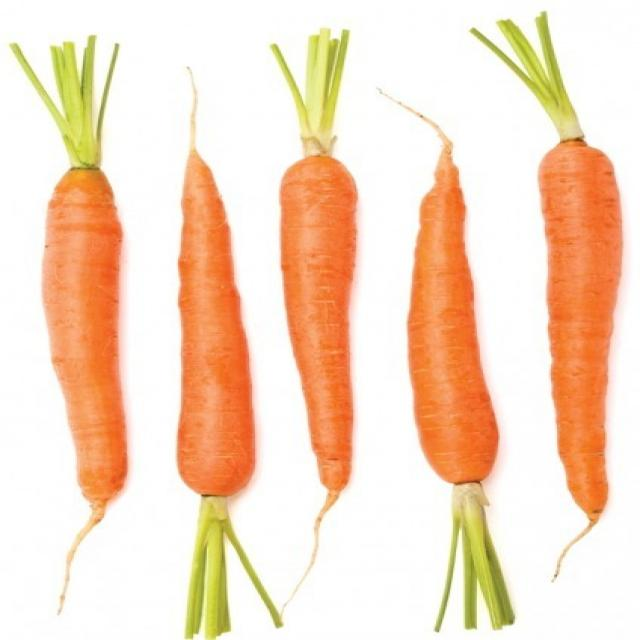Carrot: (528, 142, 640, 579), (31, 164, 136, 522), (402, 140, 506, 485), (272, 150, 367, 497), (170, 153, 262, 502)
